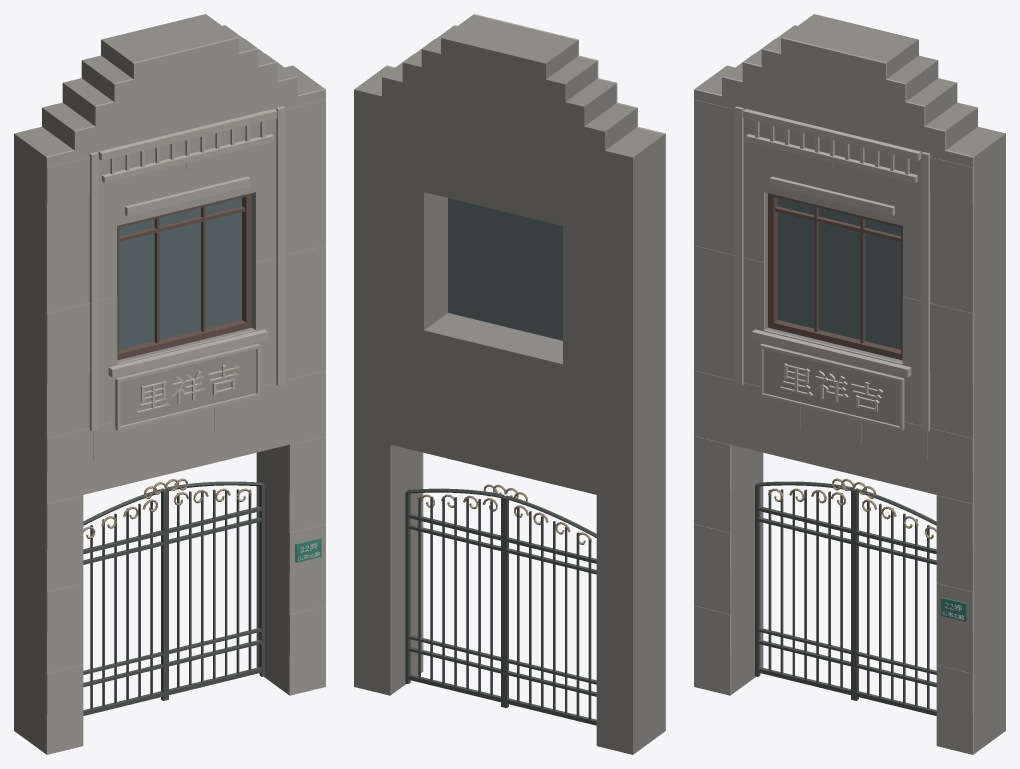
Rendered from huangpu-jixiangli-west-gate-lod.glb.
3 views of the same model, side by side, from view 1: azimuth 30°, elevation 25°; view 2: azimuth 150°, elevation 25°; view 3: azimuth 330°, elevation 25° (orthographic).
Parts seen in each view (by area): view 1: 吉祥里山东北路西弄门; view 2: 吉祥里山东北路西弄门; view 3: 吉祥里山东北路西弄门.
Boxes of the visible parts, <box> form: 吉祥里山东北路西弄门: <box>14,14,325,754</box>; 吉祥里山东北路西弄门: <box>354,14,665,754</box>; 吉祥里山东北路西弄门: <box>694,14,1005,754</box>.
Size of the model in its own units: 4.58 by 10.51 by 1.04.
